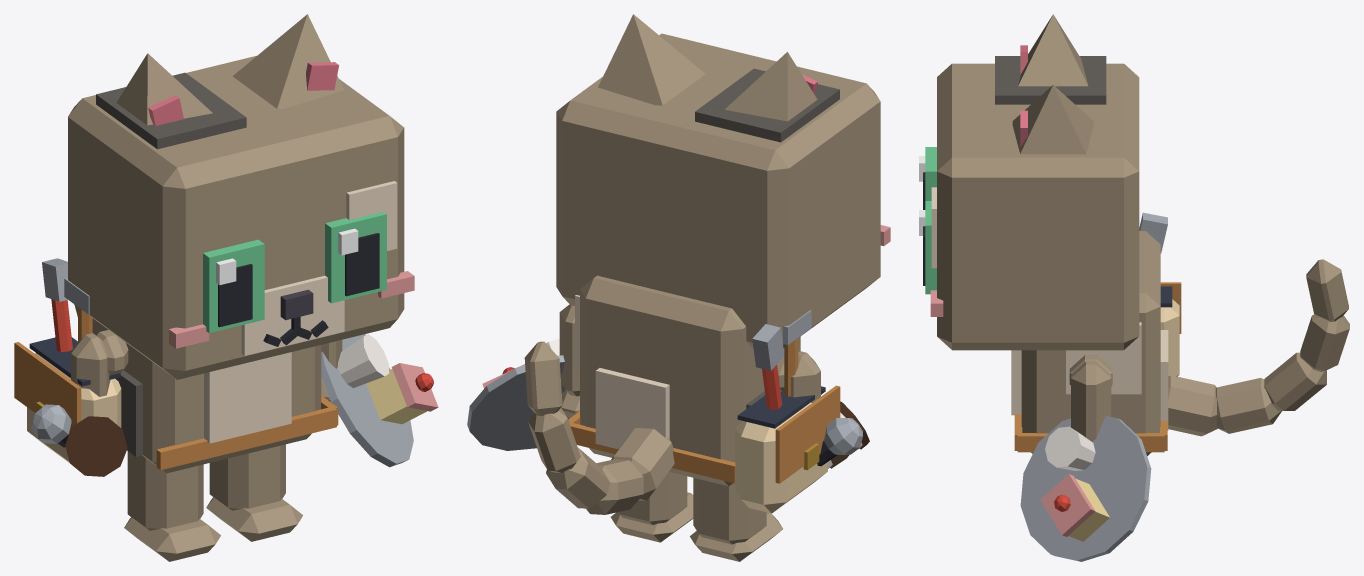
The model's file is CatCafe_Cat_Rubble_Work.glb.
The picture shows the model from 3 angles, left to right: view 1: azimuth 30°, elevation 25°; view 2: azimuth 150°, elevation 25°; view 3: azimuth 270°, elevation 25°; orthographic projection. The views are drawn at different scales.
Parts seen in each view (by area): view 1: CatCafe_Cat_Rubble_Work_Head, CatCafe_Cat_Rubble_Work_Body, CatCafe_Cat_Rubble_Work_Held_Waiter, CatCafe_Cat_Rubble_Work_LegB2, CatCafe_Cat_Rubble_Work_LegB1, CatCafe_Cat_Rubble_Work_EarL, CatCafe_Cat_Rubble_Work_Eye2, CatCafe_Cat_Rubble_Work_Eye1, CatCafe_Cat_Rubble_Work_EarR, CatCafe_Cat_Rubble_Work_Held_Barista, CatCafe_Cat_Rubble_Work_LegF2, CatCafe_Cat_Rubble_Work_Held_Entertainer; view 2: CatCafe_Cat_Rubble_Work_Head, CatCafe_Cat_Rubble_Work_Body, CatCafe_Cat_Rubble_Work_Tail, CatCafe_Cat_Rubble_Work_EarL, CatCafe_Cat_Rubble_Work_LegB2, CatCafe_Cat_Rubble_Work_Held_Waiter, CatCafe_Cat_Rubble_Work_EarR, CatCafe_Cat_Rubble_Work_LegB1, CatCafe_Cat_Rubble_Work_LegF1, CatCafe_Cat_Rubble_Work_Held_Entertainer, CatCafe_Cat_Rubble_Work_LegF2; view 3: CatCafe_Cat_Rubble_Work_Head, CatCafe_Cat_Rubble_Work_Body, CatCafe_Cat_Rubble_Work_Held_Waiter, CatCafe_Cat_Rubble_Work_Tail, CatCafe_Cat_Rubble_Work_EarL, CatCafe_Cat_Rubble_Work_EarR, CatCafe_Cat_Rubble_Work_LegF1, CatCafe_Cat_Rubble_Work_Eye1, CatCafe_Cat_Rubble_Work_Eye2.
Part boxes in pixels (left/top/right/bottom): CatCafe_Cat_Rubble_Work_Head: left=68, top=55, right=414, bottom=379; CatCafe_Cat_Rubble_Work_Body: left=14, top=258, right=338, bottom=473; CatCafe_Cat_Rubble_Work_Held_Waiter: left=321, top=334, right=438, bottom=467; CatCafe_Cat_Rubble_Work_LegB2: left=124, top=451, right=220, bottom=561; CatCafe_Cat_Rubble_Work_LegB1: left=206, top=444, right=302, bottom=541; CatCafe_Cat_Rubble_Work_EarL: left=232, top=14, right=343, bottom=108; CatCafe_Cat_Rubble_Work_Eye2: left=203, top=239, right=264, bottom=333; CatCafe_Cat_Rubble_Work_Eye1: left=325, top=211, right=386, bottom=303; CatCafe_Cat_Rubble_Work_EarR: left=116, top=53, right=212, bottom=125; CatCafe_Cat_Rubble_Work_Held_Barista: left=65, top=416, right=127, bottom=476; CatCafe_Cat_Rubble_Work_LegF2: left=71, top=333, right=110, bottom=396; CatCafe_Cat_Rubble_Work_Held_Entertainer: left=31, top=404, right=71, bottom=447; CatCafe_Cat_Rubble_Work_Head: left=556, top=33, right=890, bottom=348; CatCafe_Cat_Rubble_Work_Body: left=568, top=275, right=840, bottom=513; CatCafe_Cat_Rubble_Work_Tail: left=524, top=341, right=674, bottom=514; CatCafe_Cat_Rubble_Work_EarL: left=598, top=14, right=705, bottom=105; CatCafe_Cat_Rubble_Work_LegB2: left=690, top=478, right=782, bottom=561; CatCafe_Cat_Rubble_Work_Held_Waiter: left=467, top=338, right=568, bottom=450; CatCafe_Cat_Rubble_Work_EarR: left=724, top=52, right=817, bottom=121; CatCafe_Cat_Rubble_Work_LegB1: left=610, top=472, right=693, bottom=542; CatCafe_Cat_Rubble_Work_LegF1: left=559, top=304, right=579, bottom=418; CatCafe_Cat_Rubble_Work_Held_Entertainer: left=817, top=418, right=862, bottom=466; CatCafe_Cat_Rubble_Work_LegF2: left=784, top=351, right=820, bottom=402; CatCafe_Cat_Rubble_Work_Head: left=930, top=56, right=1139, bottom=350; CatCafe_Cat_Rubble_Work_Body: left=1011, top=212, right=1181, bottom=455; CatCafe_Cat_Rubble_Work_Held_Waiter: left=1020, top=416, right=1151, bottom=561; CatCafe_Cat_Rubble_Work_Tail: left=1168, top=259, right=1349, bottom=436; CatCafe_Cat_Rubble_Work_EarL: left=1012, top=85, right=1093, bottom=154; CatCafe_Cat_Rubble_Work_EarR: left=1018, top=14, right=1088, bottom=86; CatCafe_Cat_Rubble_Work_LegF1: left=1071, top=361, right=1111, bottom=441; CatCafe_Cat_Rubble_Work_Eye1: left=919, top=201, right=936, bottom=294; CatCafe_Cat_Rubble_Work_Eye2: left=919, top=147, right=936, bottom=209.
Size of the model in its own units: 1.53 by 1.93 by 1.62.
Materials: 1 (1 with a texture image).
